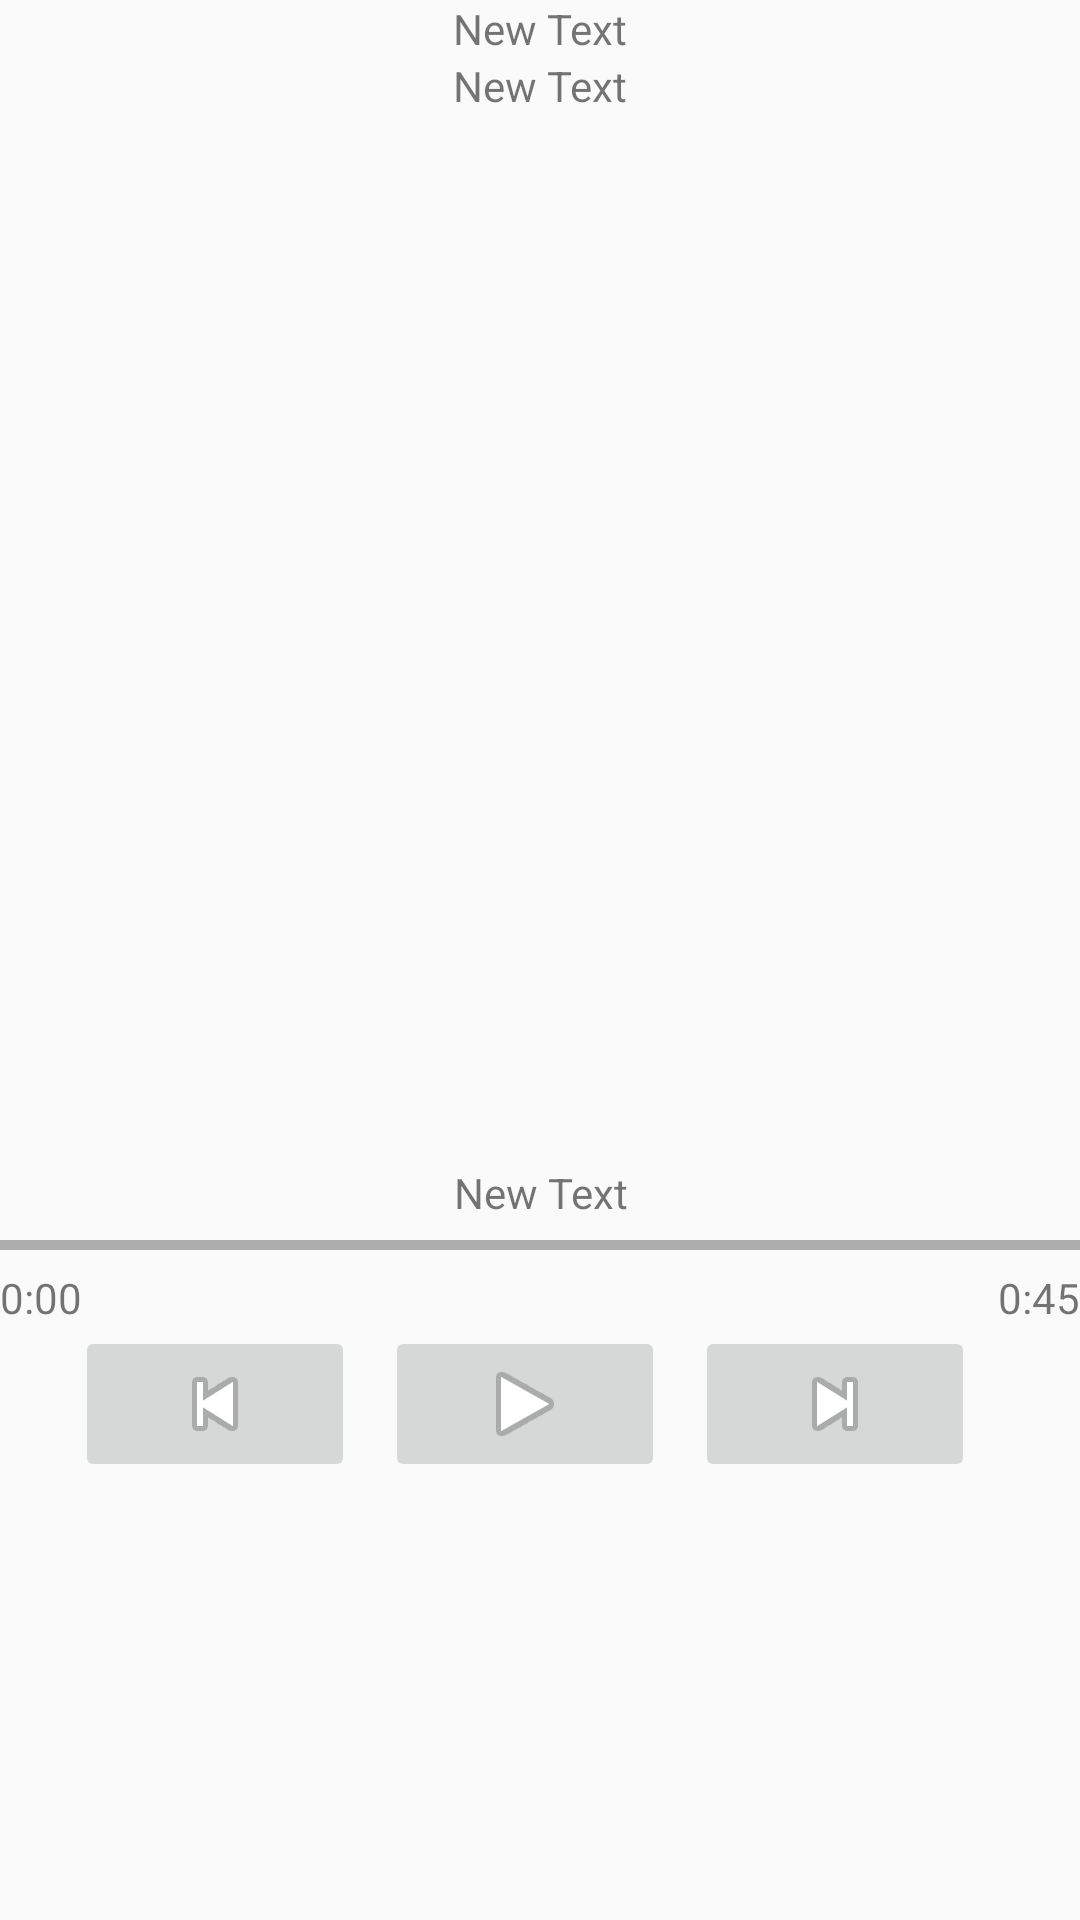

Screen size 1080px×1920px. Icon name, then its center in pixels as (x=x, y=y):
next: (x=835, y=1404)
play: (x=525, y=1404)
previous: (x=215, y=1404)
